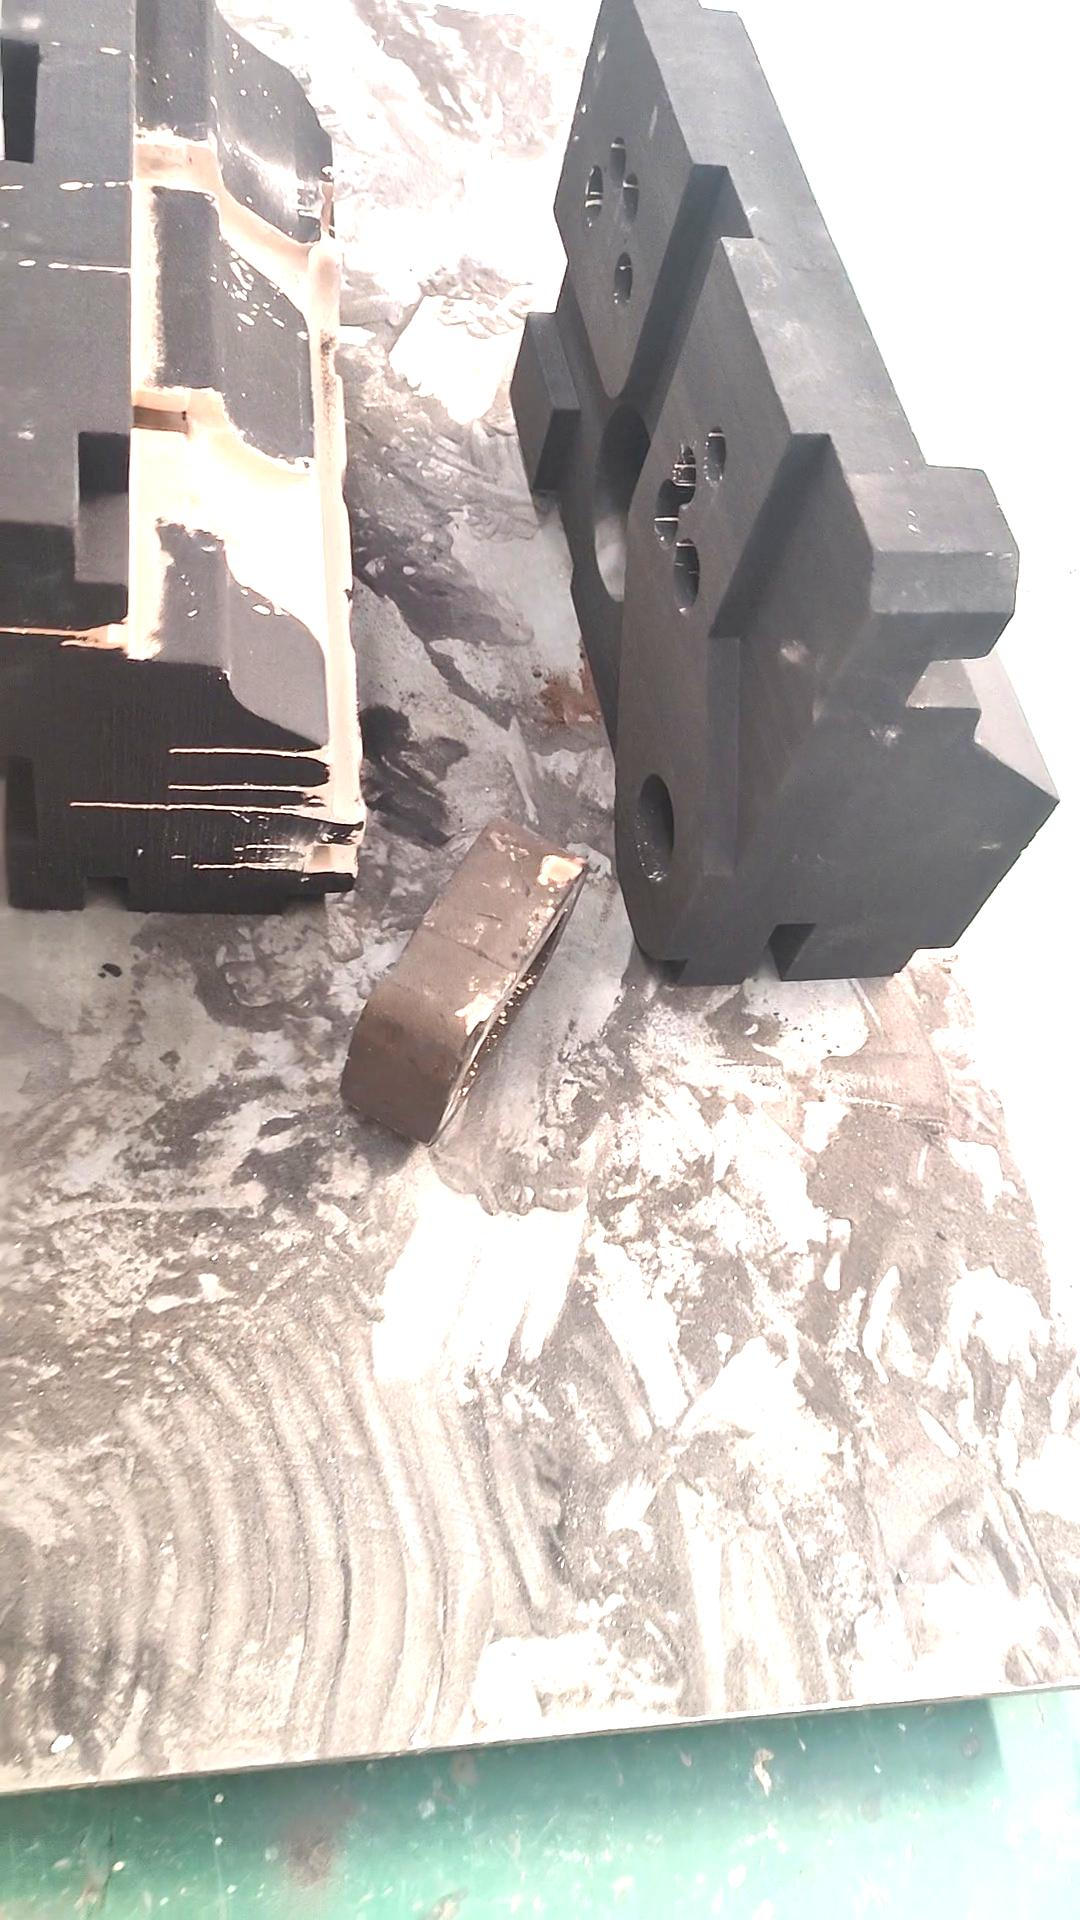pouring hole: (632, 774, 676, 884)
